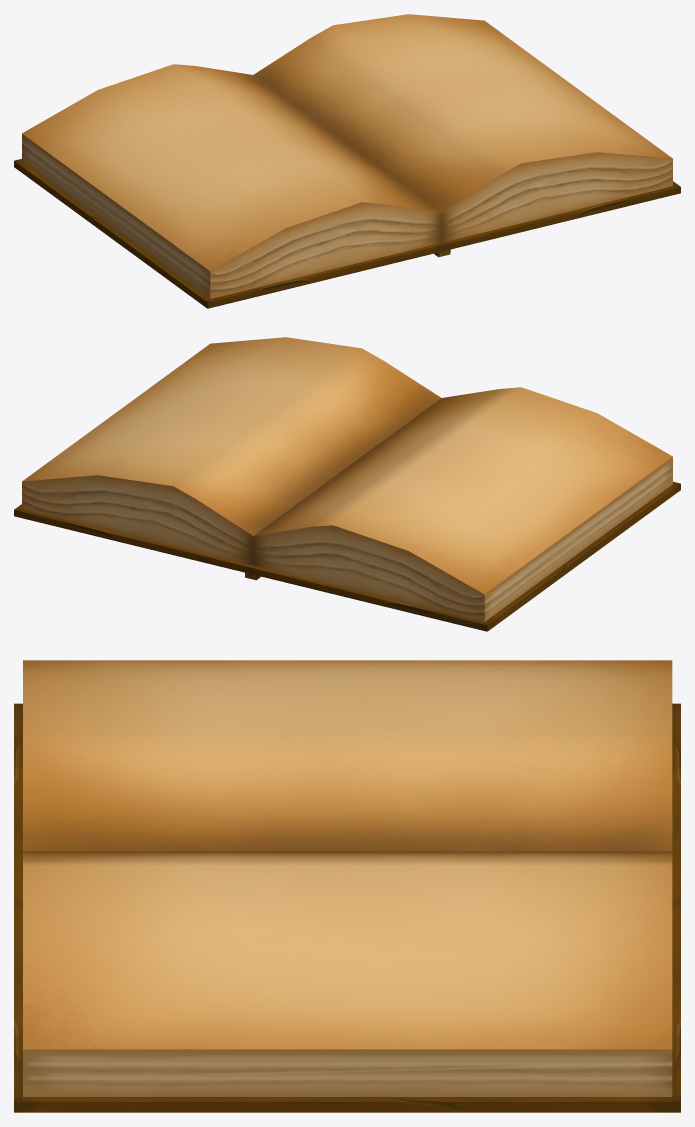
File: dairy.fbx
3 views of the same model, one above another, from view 1: azimuth 30°, elevation 25°; view 2: azimuth 150°, elevation 25°; view 3: azimuth 270°, elevation 25° (orthographic). The views are drawn at different scales.
Visible parts, largest first — view 1: pCube1; view 2: pCube1; view 3: pCube1.
Part boxes in pixels (left/top/right/bottom): pCube1: left=14, top=14, right=680, bottom=308; pCube1: left=14, top=337, right=680, bottom=631; pCube1: left=14, top=660, right=680, bottom=1112.
Bounding box in the file's own units: 3.42 × 0.4998 × 2.42.
